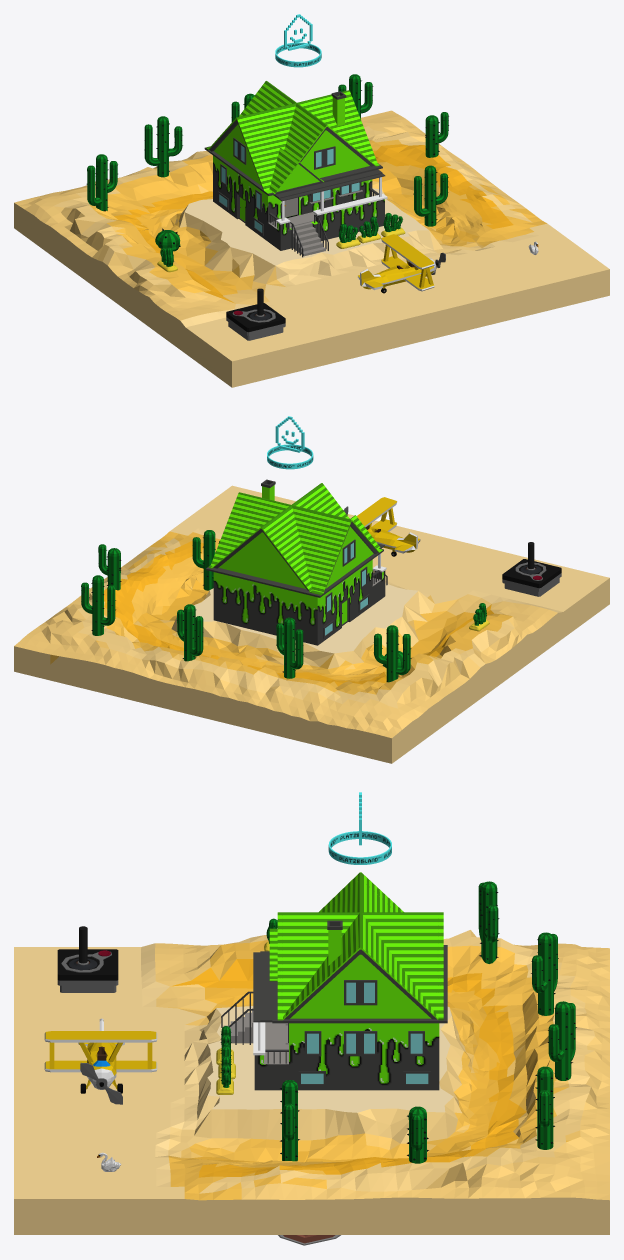
3 renders of one model, top to bottom at view 1: azimuth 30°, elevation 25°; view 2: azimuth 150°, elevation 25°; view 3: azimuth 270°, elevation 25°, orthographic. The views are drawn at different scales.
Visible parts, largest first — view 1: Cube.001, Cube.754, VEHICLES_AIRPLANE, OBJRANDOM_JOYSTICK, Cylinder.044, Cylinder.037, Cylinder.045, TYPE_PREMIUM, Cylinder.038, Cylinder.042; view 2: Cube.001, Cube.754, VEHICLES_AIRPLANE, OBJRANDOM_JOYSTICK, Cylinder.042, Cylinder.045, Cylinder.044, Cylinder.043, TYPE_PREMIUM, Cylinder.037, Cylinder.038; view 3: Cube.001, Cube.754, VEHICLES_AIRPLANE, OBJRANDOM_JOYSTICK, Cylinder.043, Cylinder.044, Cylinder.045, Cylinder.042, Cylinder.037, TYPE_PREMIUM, Cylinder.038.
Boxes of the visible parts, x1=… form: Cube.001: x1=14, y1=110, x2=609, y2=387; Cube.754: x1=204, y1=81, x2=387, y2=257; VEHICLES_AIRPLANE: x1=357, y1=234, x2=445, y2=293; OBJRANDOM_JOYSTICK: x1=226, y1=288, x2=285, y2=340; Cylinder.044: x1=144, y1=116, x2=182, y2=177; Cylinder.037: x1=413, y1=165, x2=448, y2=226; Cylinder.045: x1=86, y1=154, x2=117, y2=211; TYPE_PREMIUM: x1=275, y1=14, x2=321, y2=67; Cylinder.038: x1=425, y1=112, x2=448, y2=157; Cylinder.042: x1=338, y1=74, x2=373, y2=118; Cube.001: x1=14, y1=485, x2=609, y2=763; Cube.754: x1=206, y1=479, x2=387, y2=645; VEHICLES_AIRPLANE: x1=343, y1=497, x2=420, y2=556; OBJRANDOM_JOYSTICK: x1=502, y1=542, x2=561, y2=596; Cylinder.042: x1=81, y1=575, x2=115, y2=635; Cylinder.045: x1=373, y1=625, x2=411, y2=682; Cylinder.044: x1=276, y1=617, x2=303, y2=678; Cylinder.043: x1=177, y1=604, x2=203, y2=661; TYPE_PREMIUM: x1=267, y1=416, x2=313, y2=469; Cylinder.037: x1=192, y1=530, x2=219, y2=590; Cylinder.038: x1=98, y1=544, x2=121, y2=590; Cube.001: x1=14, y1=930, x2=609, y2=1234; Cube.754: x1=221, y1=872, x2=447, y2=1090; VEHICLES_AIRPLANE: x1=44, y1=1018, x2=157, y2=1104; OBJRANDOM_JOYSTICK: x1=57, y1=926, x2=118, y2=992; Cylinder.043: x1=547, y1=1001, x2=576, y2=1080; Cylinder.044: x1=531, y1=932, x2=558, y2=1015; Cylinder.045: x1=478, y1=881, x2=499, y2=963; Cylinder.042: x1=535, y1=1066, x2=554, y2=1149; Cylinder.037: x1=280, y1=1080, x2=299, y2=1161; TYPE_PREMIUM: x1=328, y1=792, x2=391, y2=864; Cylinder.038: x1=407, y1=1106, x2=428, y2=1163.
Size of the model in its own units: 4002 by 3154 by 4001.
44 materials, 4 textured.
